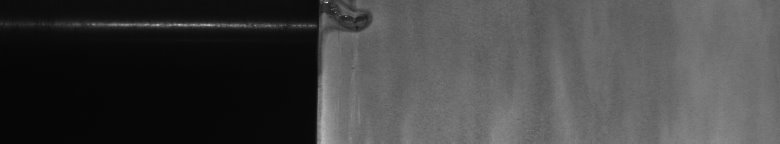hb: (328, 4, 380, 61)
